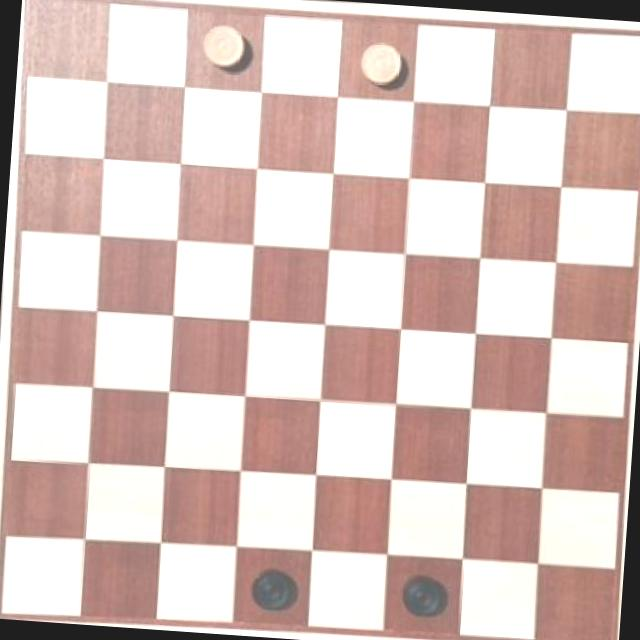BOARD: (0, 0, 640, 640)
black: (392, 566, 450, 620), (245, 567, 301, 611)
white: (344, 30, 411, 96), (197, 13, 254, 82)
